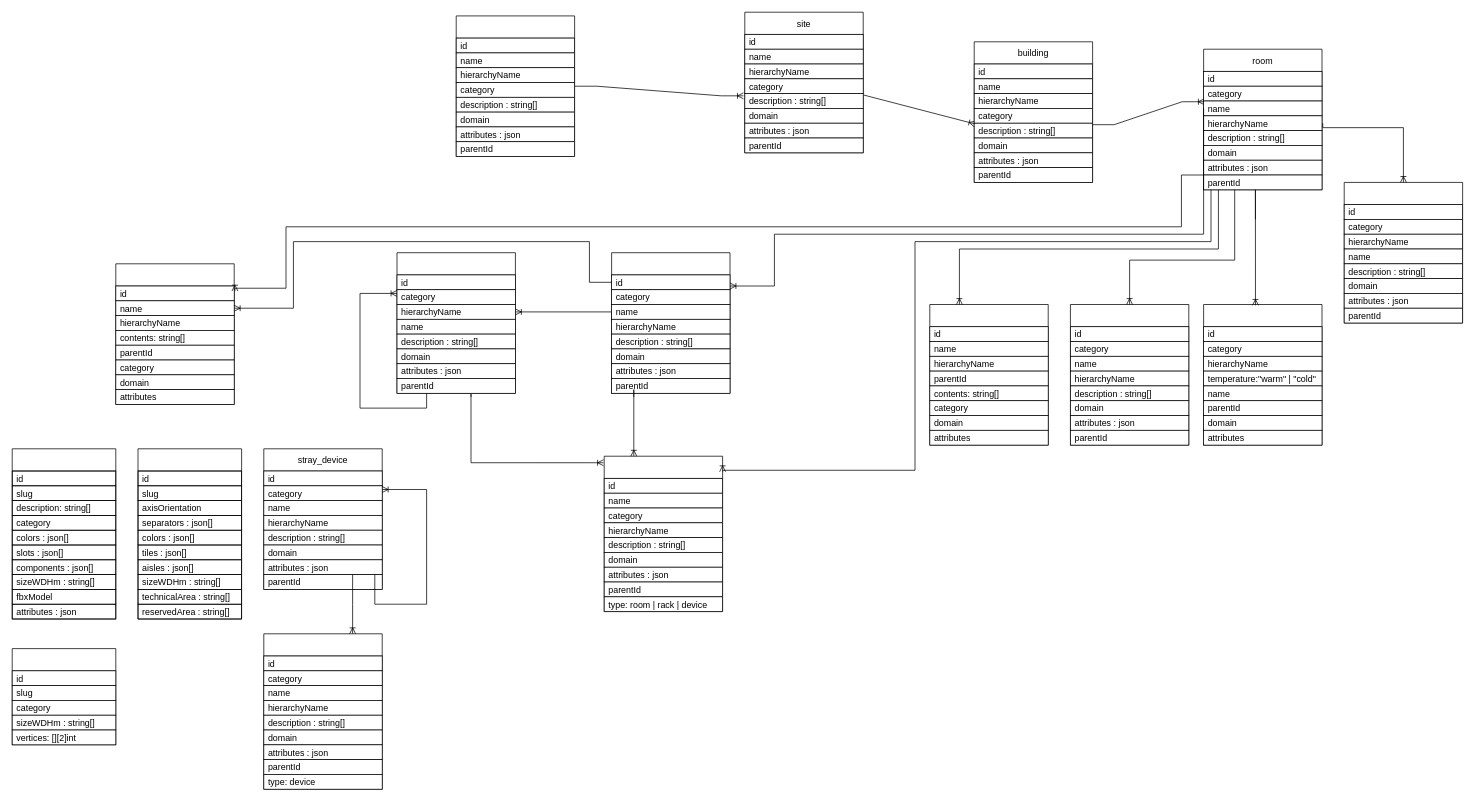
The diagram is 1475 pixels wide and 801 high, and some of its shapes have lost their labels. Here are the shapes that lost their labels. From the top down, the box of each, then its label:
(455, 15, 575, 157): tenant
(1343, 182, 1463, 323): ac
(115, 263, 234, 404): group
(396, 252, 515, 393): device
(611, 252, 730, 393): rack
(929, 304, 1048, 445): cabinet
(1070, 304, 1189, 445): panel
(1203, 304, 1322, 445): corridor
(11, 448, 116, 619): obj_template
(137, 448, 242, 619): room_template
(603, 455, 723, 612): sensor
(11, 648, 116, 745): bldg_template
(263, 633, 382, 789): stray_sensor
